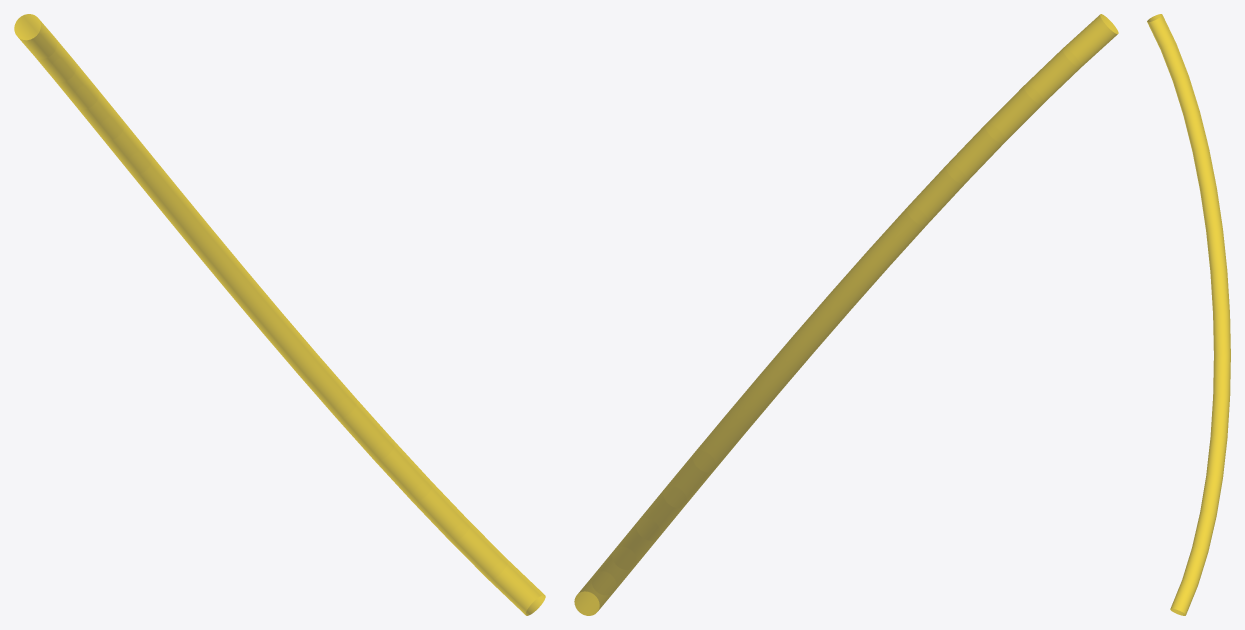
The model's file is Event_419990632_track_48.fbx.
3 renders of one model, left to right at view 1: azimuth 30°, elevation 25°; view 2: azimuth 150°, elevation 25°; view 3: azimuth 270°, elevation 25°, orthographic. The views are drawn at different scales.
Visible parts, largest first — view 1: Model; view 2: Model; view 3: Model.
Part boxes in pixels (x1,y1,x2,y2): Model: (14, 14, 545, 615); Model: (574, 14, 1118, 615); Model: (1147, 14, 1230, 615).
Size of the model in its own units: 0.8998 by 1.16 by 0.197.
